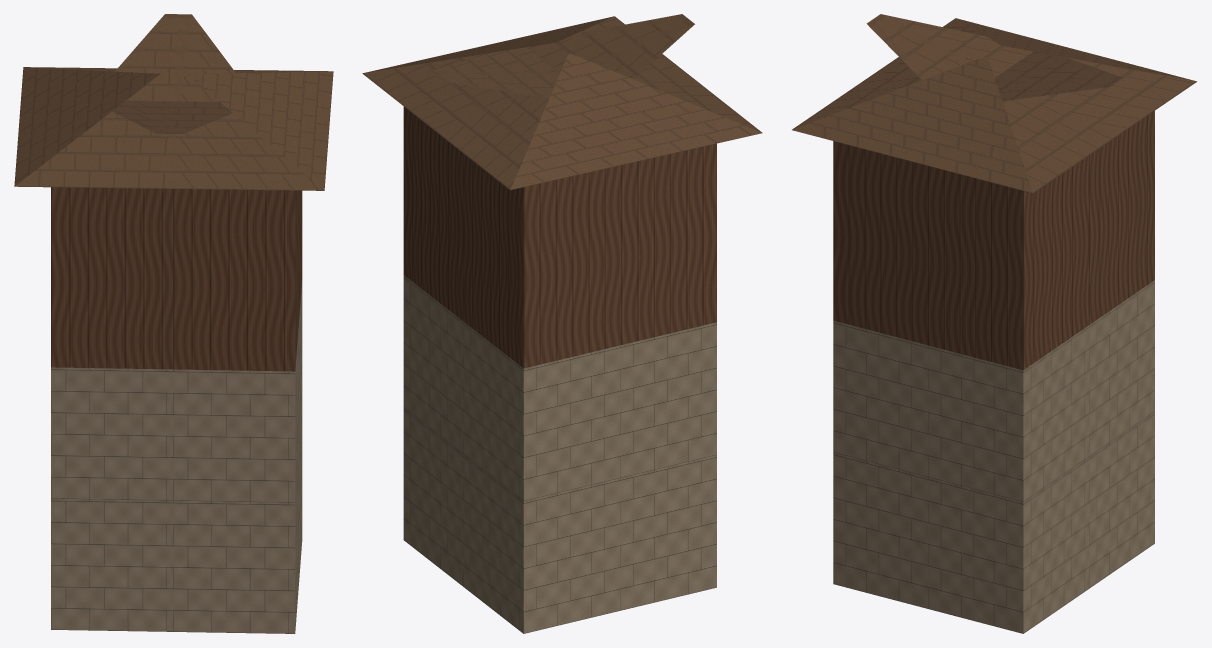
Rendered from bld_c-2_0_534.gltf.
The picture shows the model from 3 angles, left to right: view 1: azimuth 30°, elevation 25°; view 2: azimuth 150°, elevation 25°; view 3: azimuth 270°, elevation 25°; orthographic projection.
Visible parts, largest first — view 1: bld_c-2_0_534; view 2: bld_c-2_0_534; view 3: bld_c-2_0_534.
Part boxes in pixels (left/top/right/bottom): bld_c-2_0_534: left=14, top=14, right=333, bottom=633; bld_c-2_0_534: left=362, top=14, right=762, bottom=633; bld_c-2_0_534: left=792, top=14, right=1196, bottom=633.
Size of the model in its own units: 6.81 by 9.3 by 6.67.
Materials: 3 (3 with a texture image).
